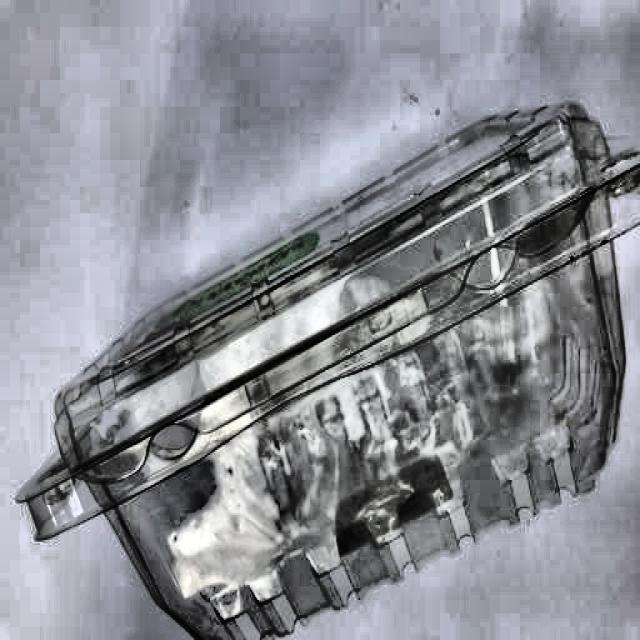plastic: (34, 110, 634, 636)
